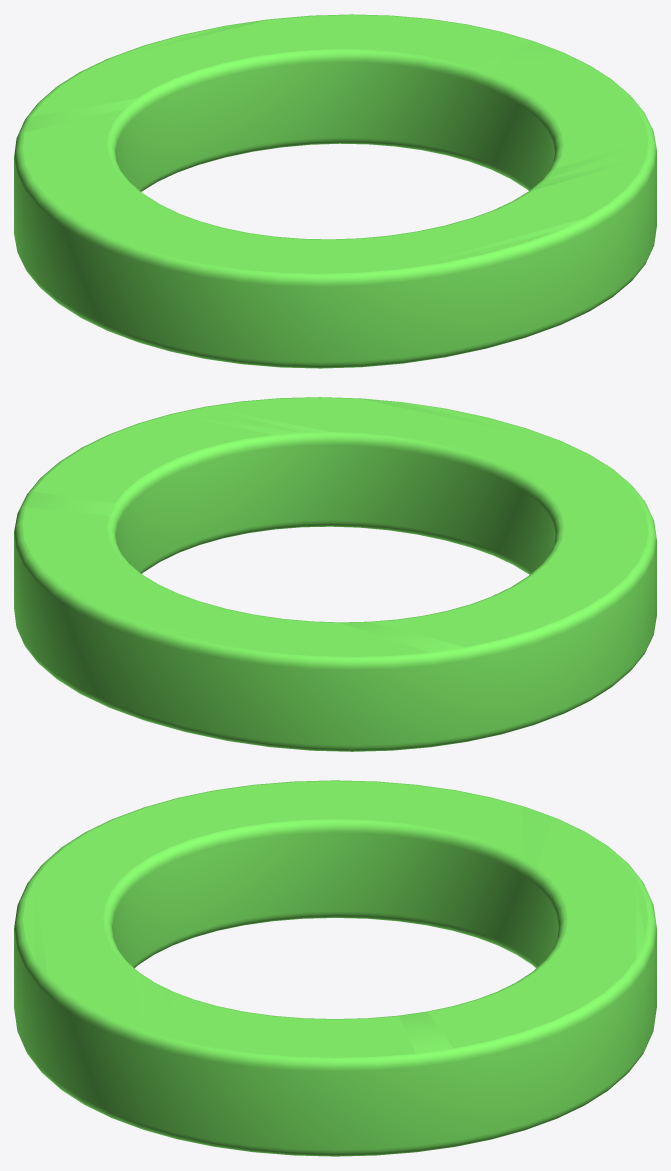
Rendered from ToyObject_221.fbx.
3 renders of one model, top to bottom at view 1: azimuth 30°, elevation 25°; view 2: azimuth 150°, elevation 25°; view 3: azimuth 270°, elevation 25°, orthographic. The views are drawn at different scales.
Parts seen in each view (by area): view 1: Object.085; view 2: Object.085; view 3: Object.085.
Boxes of the visible parts, box(x1,y1,x2,y2) form: Object.085: box(14, 14, 656, 368); Object.085: box(14, 397, 656, 751); Object.085: box(14, 780, 656, 1156).
Bounding box in the file's own units: 0.2093 × 0.0337 × 0.2001.
